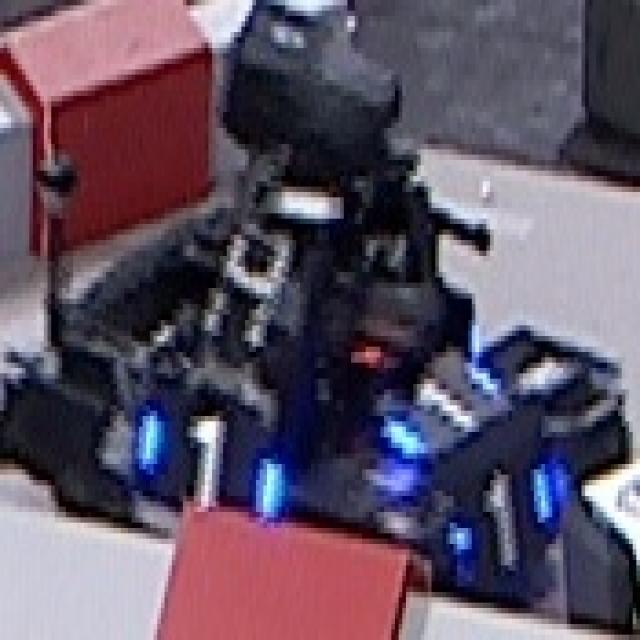B1: (130, 400, 287, 512), (437, 451, 561, 573), (375, 357, 506, 459)
